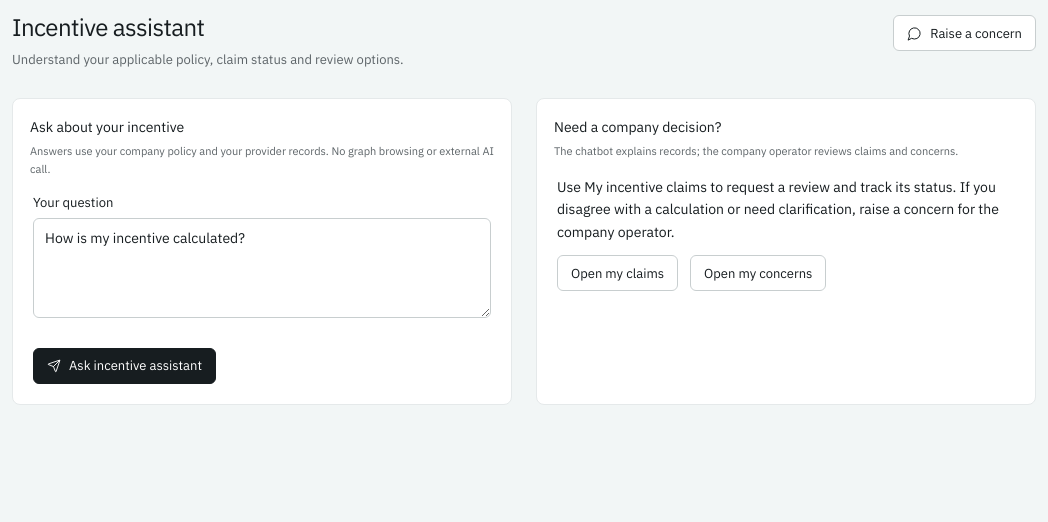
Scenario: public provider and operator workflow › provider chatbot gives sourced policy text without graph links
The image size is (1048, 522).
Click the button "Ask incentive assistant" at x=124, y=366, box [33,348,216,384]
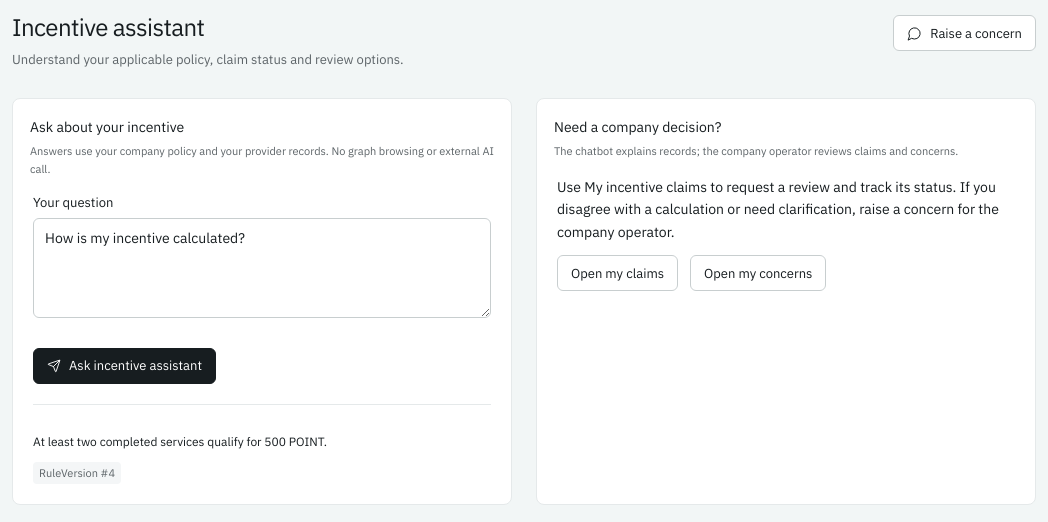
Expected: the text "At least two completed services qualify for 500 POINT." is shown, [33,434,327,448]
